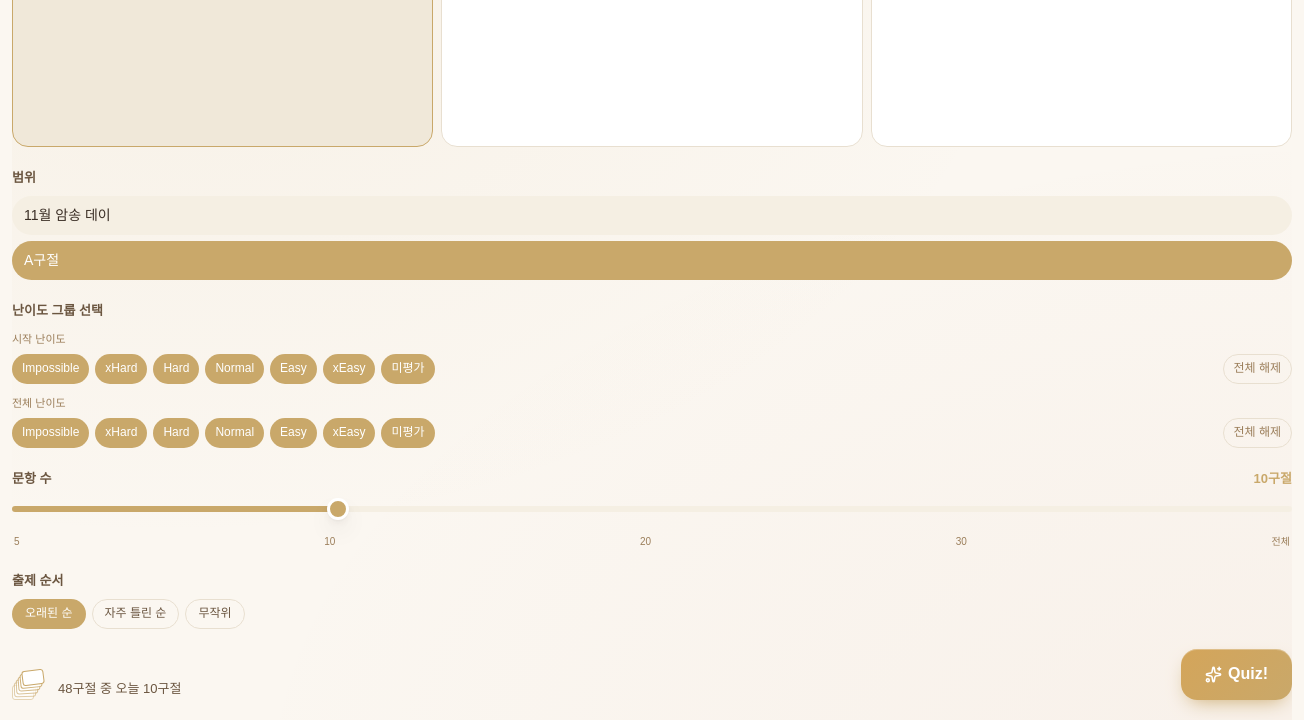
Test: QuizScopePicker — 문항 수 › moves the count line with the dial
(page scrolled)
Set the slider labelled "문항 수" to "2": (652, 509) [12,497,1292,521]
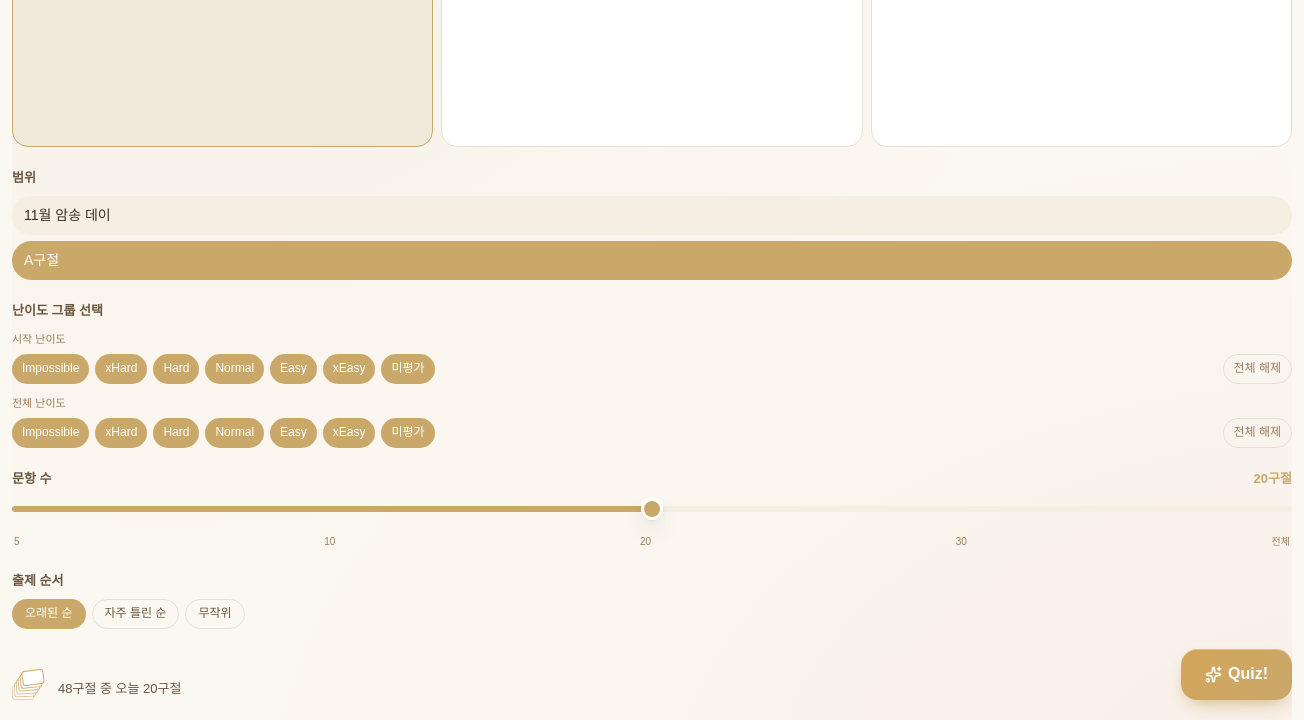
Expected: the text "48구절 중 오늘 20구절" is shown, [58,678,182,700]
